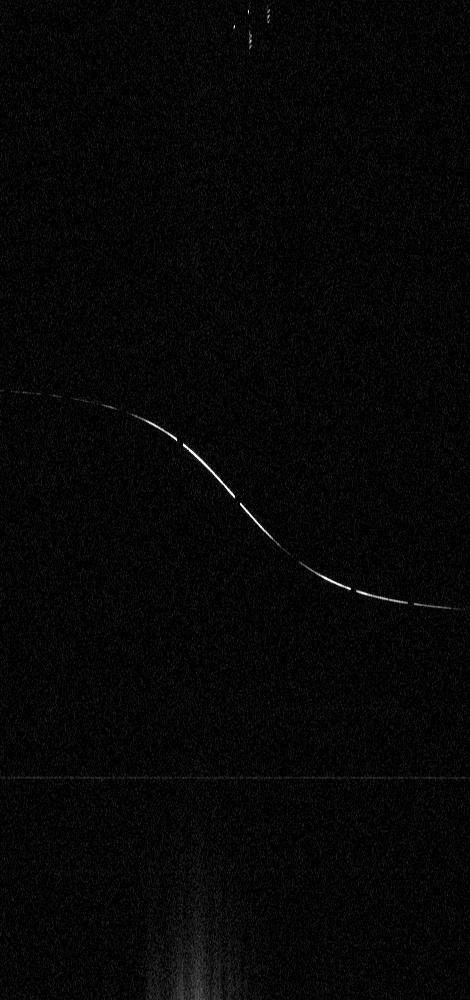signal: (0, 0, 469, 999)
